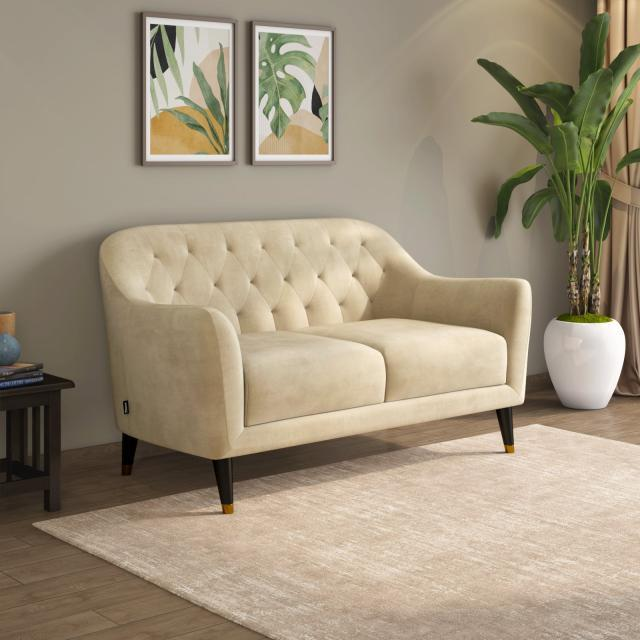sofa: (98, 216, 532, 514)
